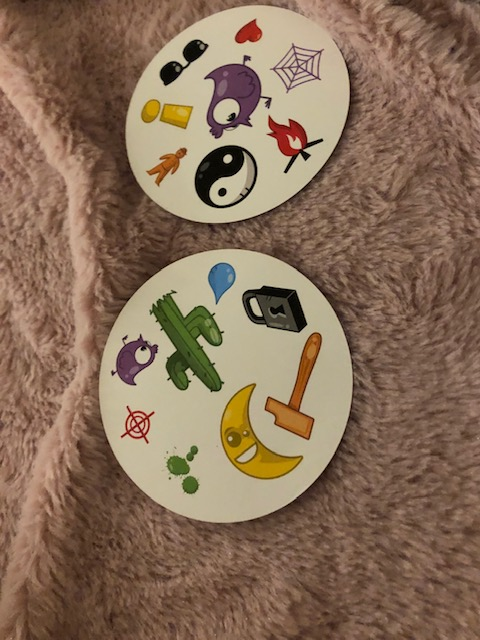bonhomme: (144, 143, 189, 189)
cactus: (149, 288, 234, 396)
cadenas: (240, 286, 307, 337)
cible: (118, 404, 156, 448)
coeur: (234, 16, 262, 44)
feu: (262, 109, 321, 174)
goutte: (204, 263, 239, 307)
lune: (217, 379, 302, 481)
lunette: (158, 37, 210, 86)
marteau: (259, 338, 327, 441)
oiseau: (202, 55, 267, 135), (111, 331, 159, 390)
point_exclamation: (137, 98, 196, 134)
tache: (162, 437, 205, 499)
toile: (271, 42, 323, 97)
ying_yang: (191, 144, 260, 209)
